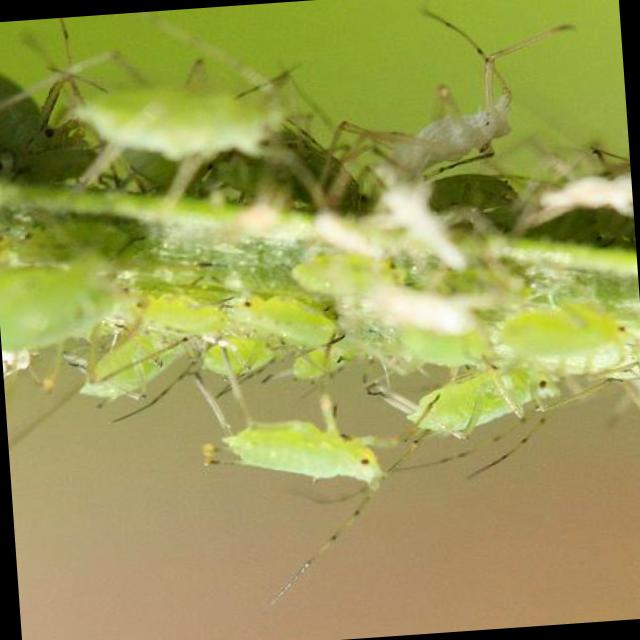Aphid: (159, 323, 437, 555), (361, 326, 601, 478), (60, 45, 294, 171), (68, 310, 217, 413), (215, 260, 361, 363)
